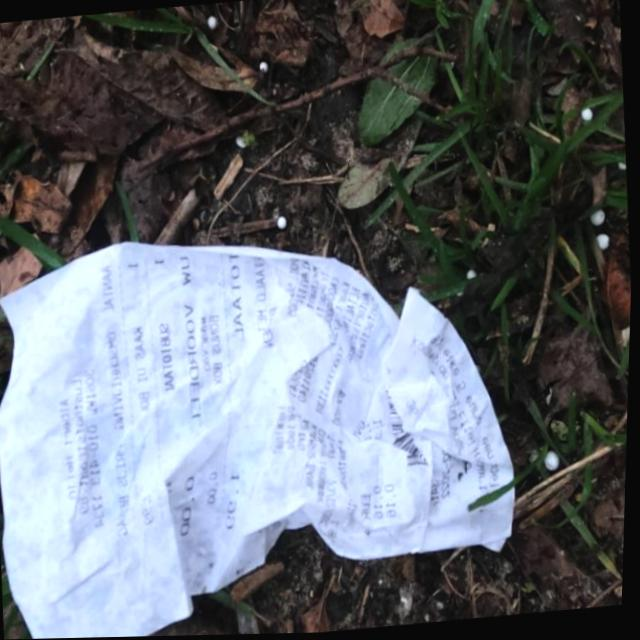Paper: (0, 197, 537, 640)
